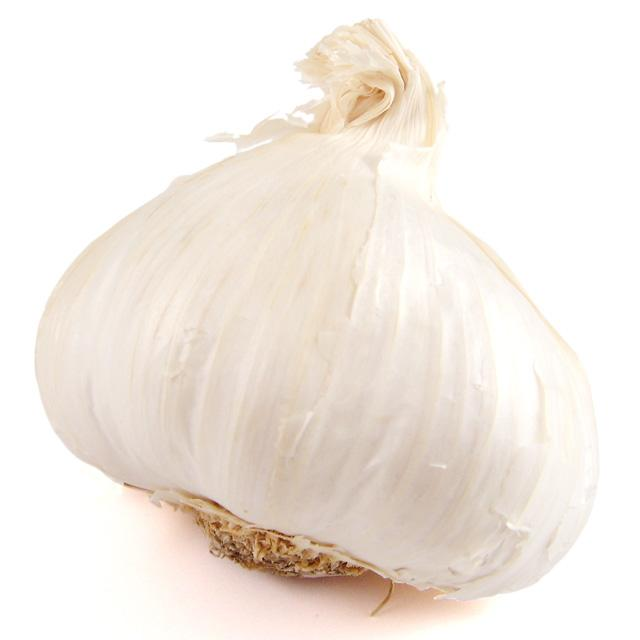garlic: (28, 5, 603, 624)
